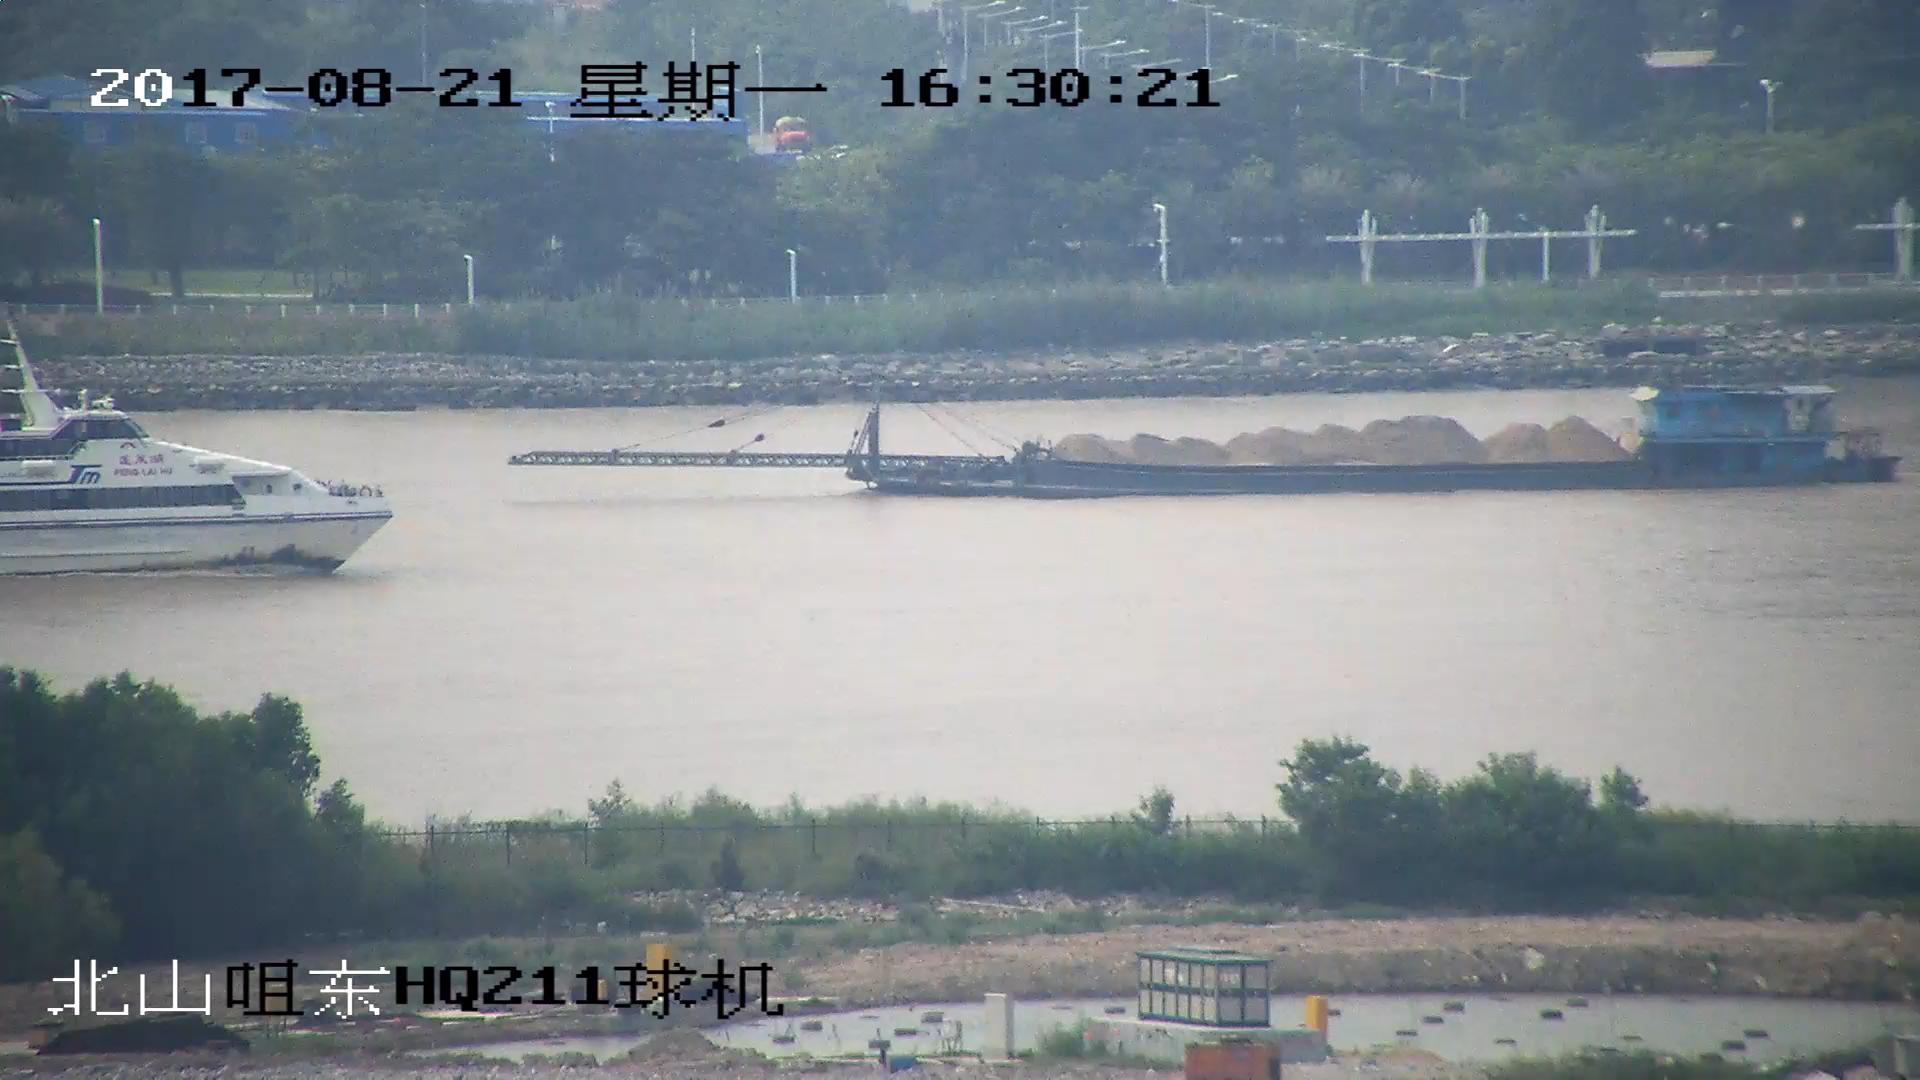ore carrier: (512, 365, 1898, 497)
passenger ship: (1, 320, 400, 583)
